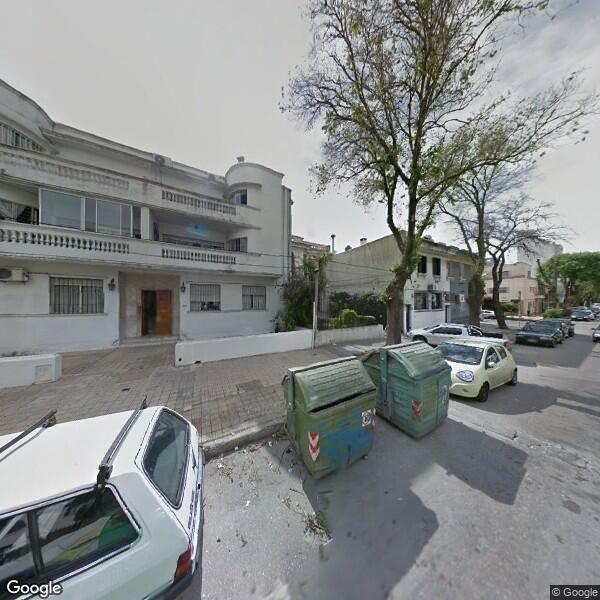Trash: (282, 354, 381, 484), (361, 338, 452, 443)
